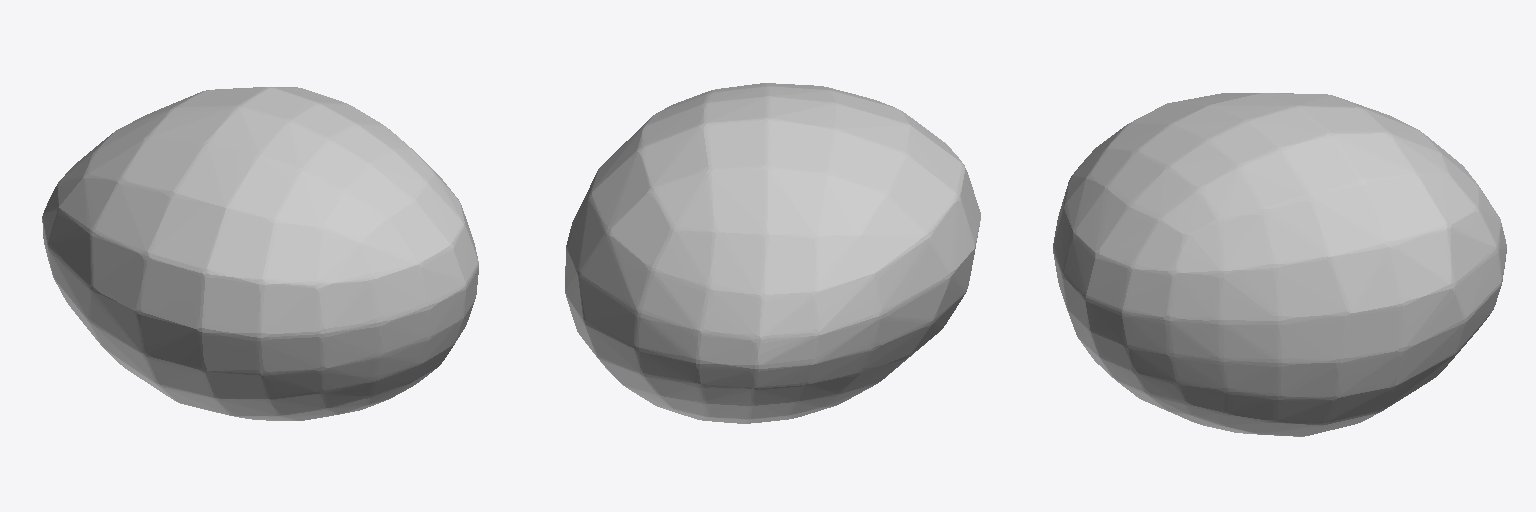
The model's file is Potato_27_collision_0.obj.
The picture shows the model from 3 angles: view 1: azimuth 30°, elevation 25°; view 2: azimuth 150°, elevation 25°; view 3: azimuth 270°, elevation 25°; orthographic projection.
Size of the model in its own units: 0.1053 by 0.0846 by 0.1195.